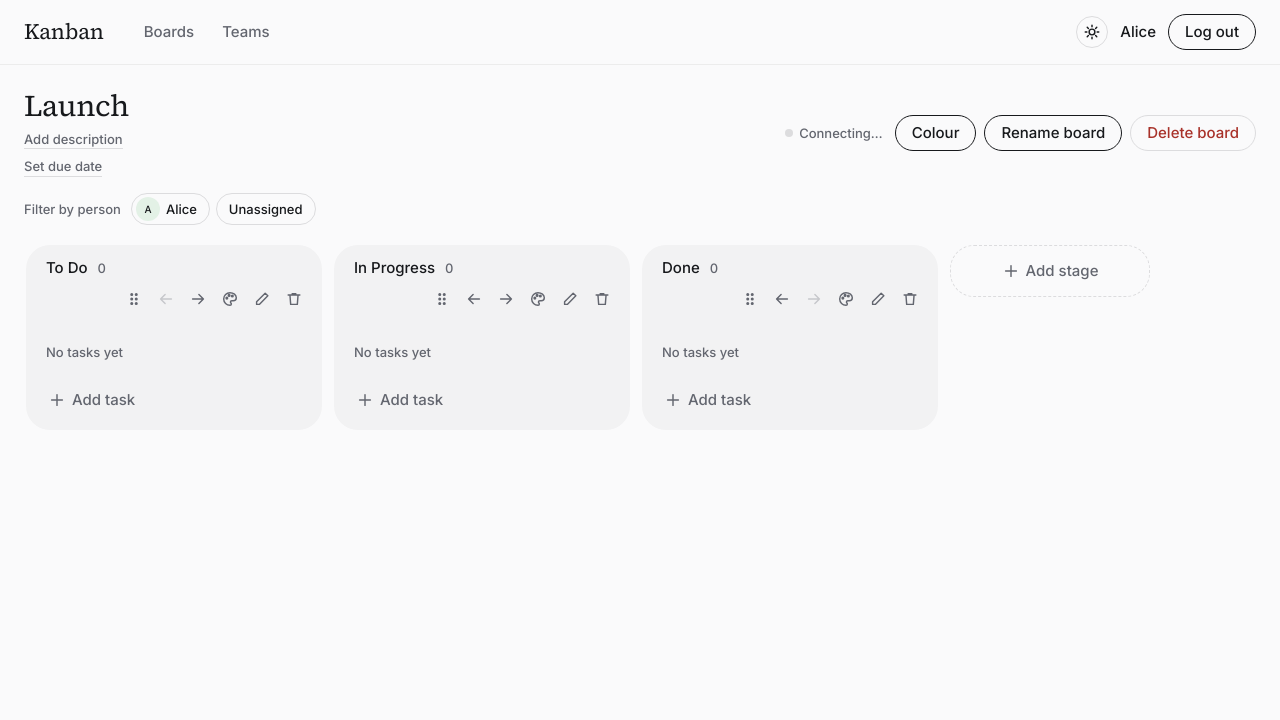
board colours › keeps the colour dialog open with the error if saving fails
Step 1. Click the button with aria-label "Board colour" → click(936, 133), box left=895, top=115, right=976, bottom=151
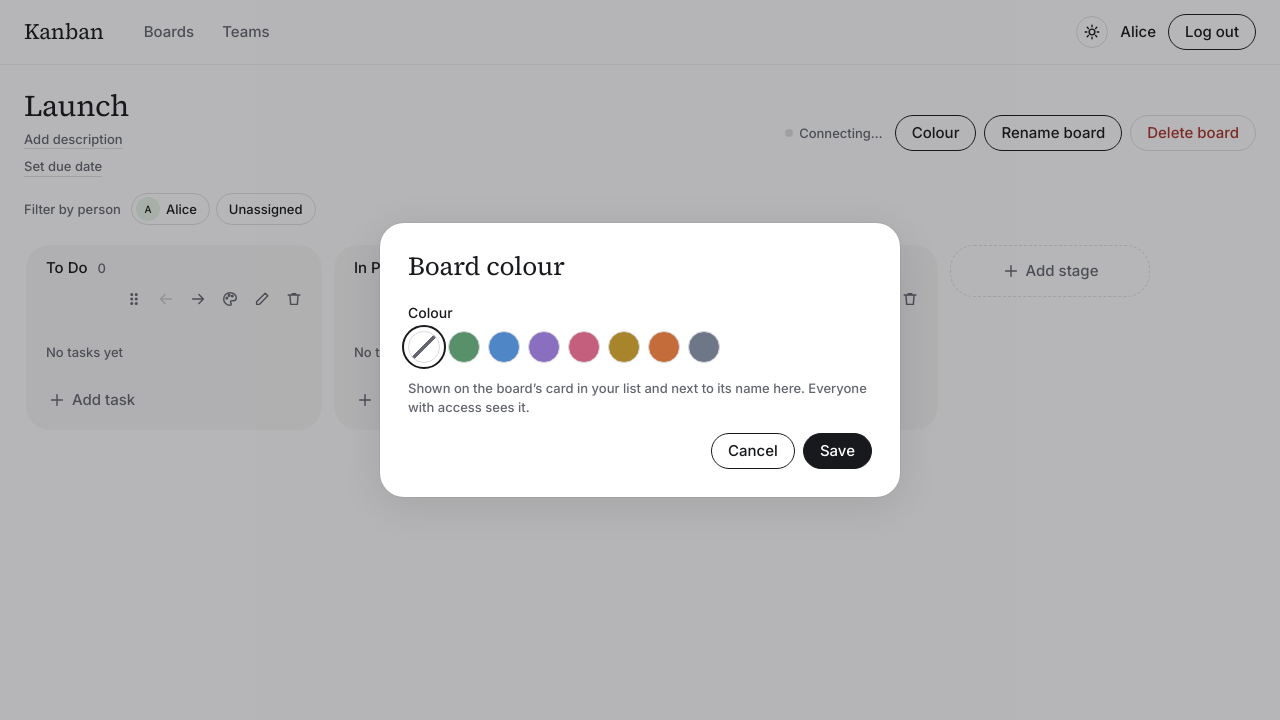
Step 2. Click the radio button named "Sky" → click(504, 347), box left=488, top=331, right=520, bottom=363
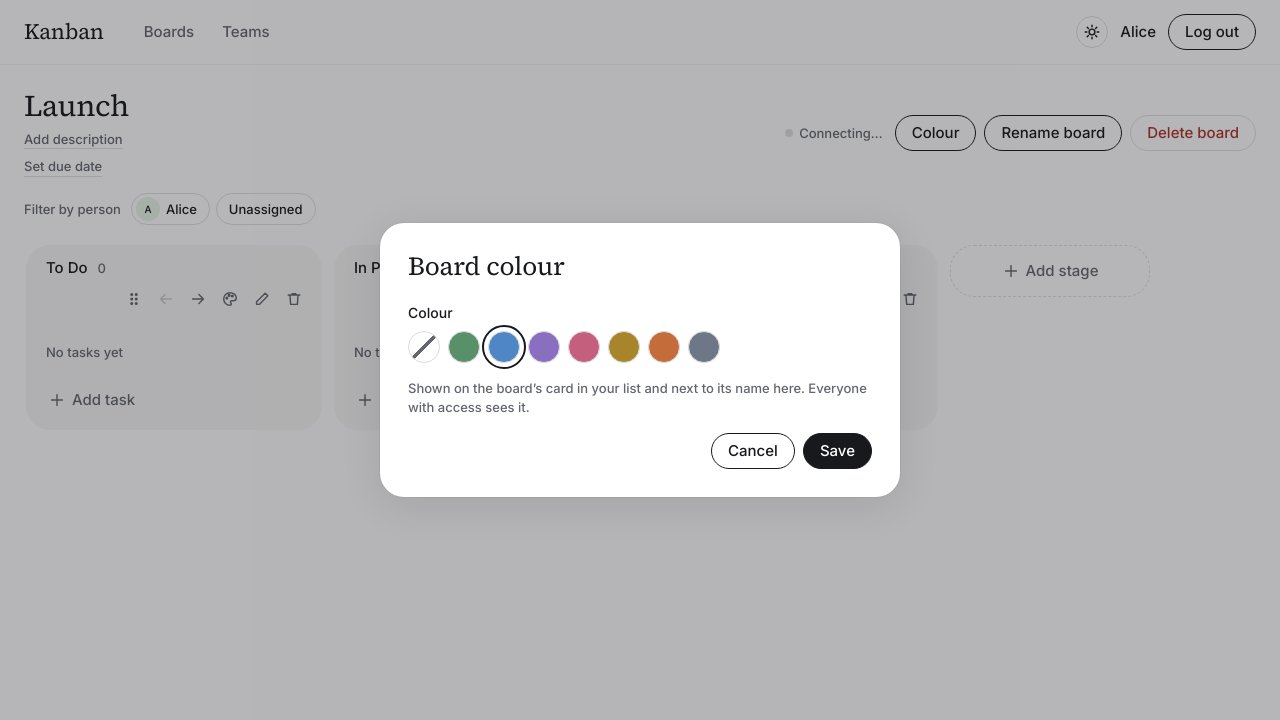
Step 3. Click the button "Save" → click(837, 451), box left=803, top=433, right=872, bottom=469
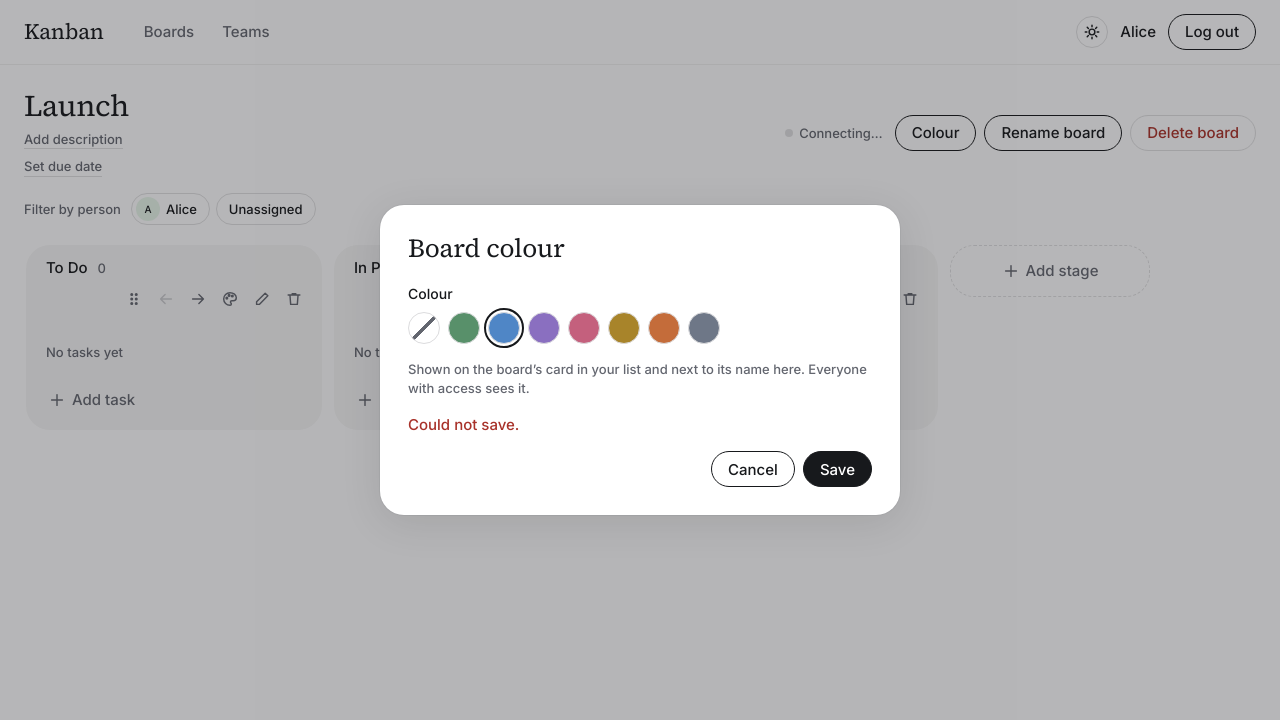
Expected: the dialog "Board colour" is shown, left=380, top=204, right=900, bottom=515
Expected: the message reads "Could not save.", left=408, top=415, right=519, bottom=434
